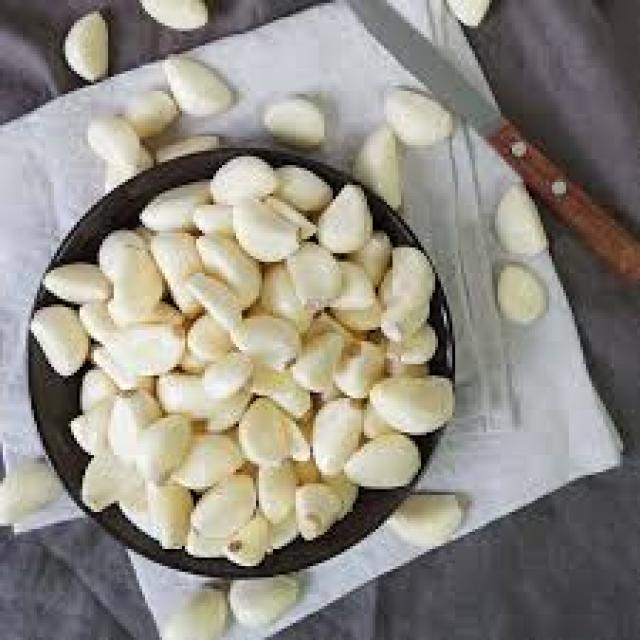Garlic bulb: (65, 324, 288, 526), (148, 213, 353, 401), (205, 333, 412, 512)
